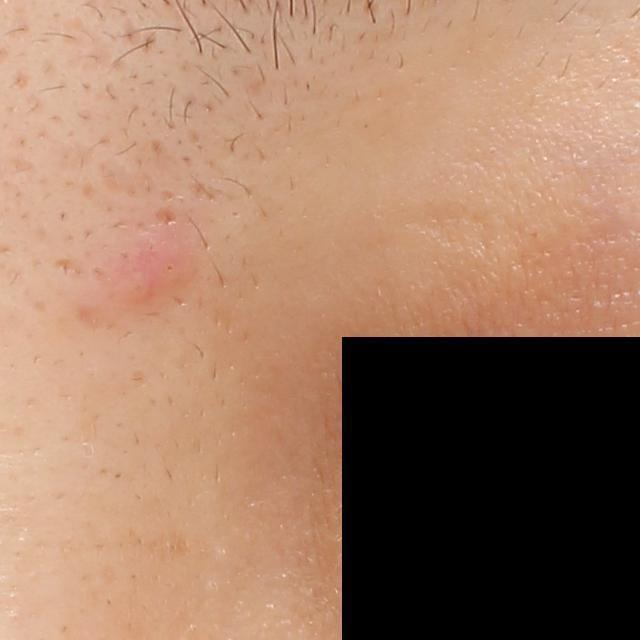papule: (108, 228, 206, 315)
